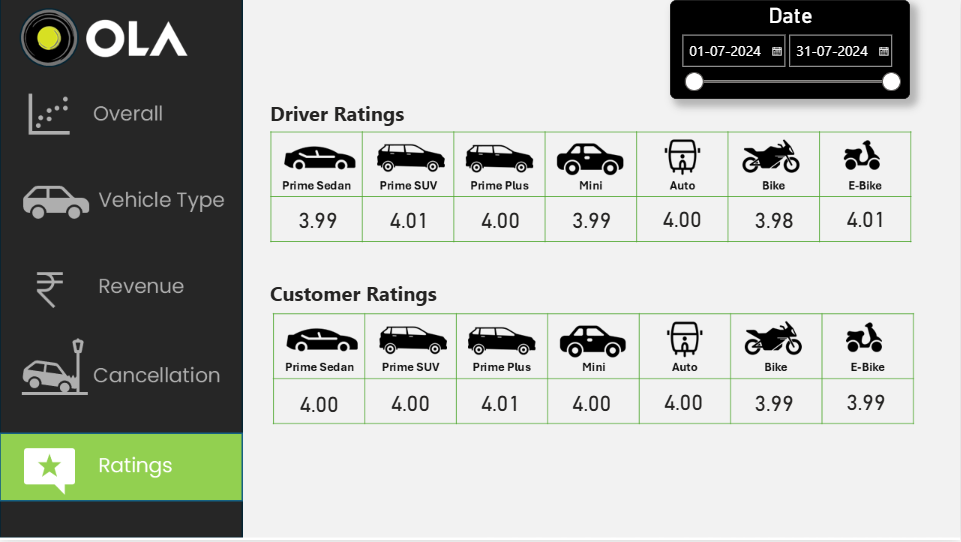

Layout of this report page (visuals, bound fields, positions):
{"tool":"powerbi","page":{"name":"Ratings","canvas":[1280,720],"ordinal":4},"visuals":[{"type":"actionButton","box":[0,222.5,325,90],"z":0},{"type":"actionButton","box":[0,337.5,325,90],"z":1000},{"type":"actionButton","box":[0,450,325,90],"z":2000},{"type":"actionButton","box":[0,112.5,325,90],"z":3000},{"type":"card","fields":{"Values":["Avg(July.Driver_Ratings)"]},"box":[363.8,262.5,121.2,58.8],"z":4000},{"type":"card","fields":{"Values":["Avg(July.Driver_Ratings)"]},"box":[485,261.2,121.2,60],"z":5000},{"type":"card","fields":{"Values":["Avg(July.Driver_Ratings)"]},"box":[606.2,261.2,121.2,60],"z":6000},{"type":"card","fields":{"Values":["Avg(July.Driver_Ratings)"]},"box":[727.5,261.2,121.2,60],"z":7000},{"type":"card","fields":{"Values":["Avg(July.Driver_Ratings)"]},"box":[848.8,261.2,122.5,57.5],"z":8000},{"type":"card","fields":{"Values":["Avg(July.Driver_Ratings)"]},"box":[971.2,261.2,121.2,60],"z":9000},{"type":"card","fields":{"Values":["Avg(July.Driver_Ratings)"]},"box":[1092.5,261.2,122.5,57.5],"z":10000},{"type":"card","fields":{"Values":["Avg(July.Customer_Rating)"]},"box":[364.7,508.5,121.2,58.8],"z":11000},{"type":"card","fields":{"Values":["Avg(July.Customer_Rating)"]},"box":[486,507.2,121.2,60],"z":12000},{"type":"card","fields":{"Values":["Avg(July.Customer_Rating)"]},"box":[607.2,507.2,121.2,60],"z":13000},{"type":"card","fields":{"Values":["Avg(July.Customer_Rating)"]},"box":[728.5,507.2,121.2,60],"z":14000},{"type":"card","fields":{"Values":["Avg(July.Customer_Rating)"]},"box":[849.7,507.2,122.5,57.5],"z":15000},{"type":"card","fields":{"Values":["Avg(July.Customer_Rating)"]},"box":[972.2,507.2,121.2,60],"z":16000},{"type":"card","fields":{"Values":["Avg(July.Customer_Rating)"]},"box":[1093.5,507.2,122.5,57.5],"z":17000},{"type":"textbox","box":[355.6,127.8,243.3,60],"z":18000},{"type":"textbox","box":[355.6,367.8,243.3,60],"z":19000},{"type":"slicer","title":"Date","fields":{"Values":["July.Date"]},"box":[894,0,320,132],"z":20000}]}

Visuals, with their boxes on the page's 1280x720 design canvas (x1, y1, x2, y2). These are canvas units, not pixel positions in the 961x542 screenshot, which may show the page scaled, cropped or inside an application window:
actionButton: box(0, 222, 325, 312)
actionButton: box(0, 338, 325, 428)
actionButton: box(0, 450, 325, 540)
actionButton: box(0, 112, 325, 202)
card - Avg(July.Driver_Ratings): box(364, 262, 485, 321)
card - Avg(July.Driver_Ratings): box(485, 261, 606, 321)
card - Avg(July.Driver_Ratings): box(606, 261, 727, 321)
card - Avg(July.Driver_Ratings): box(728, 261, 849, 321)
card - Avg(July.Driver_Ratings): box(849, 261, 971, 319)
card - Avg(July.Driver_Ratings): box(971, 261, 1092, 321)
card - Avg(July.Driver_Ratings): box(1092, 261, 1215, 319)
card - Avg(July.Customer_Rating): box(365, 508, 486, 567)
card - Avg(July.Customer_Rating): box(486, 507, 607, 567)
card - Avg(July.Customer_Rating): box(607, 507, 728, 567)
card - Avg(July.Customer_Rating): box(728, 507, 850, 567)
card - Avg(July.Customer_Rating): box(850, 507, 972, 565)
card - Avg(July.Customer_Rating): box(972, 507, 1093, 567)
card - Avg(July.Customer_Rating): box(1094, 507, 1216, 565)
textbox: box(356, 128, 599, 188)
textbox: box(356, 368, 599, 428)
"Date" slicer: box(894, 0, 1214, 132)
